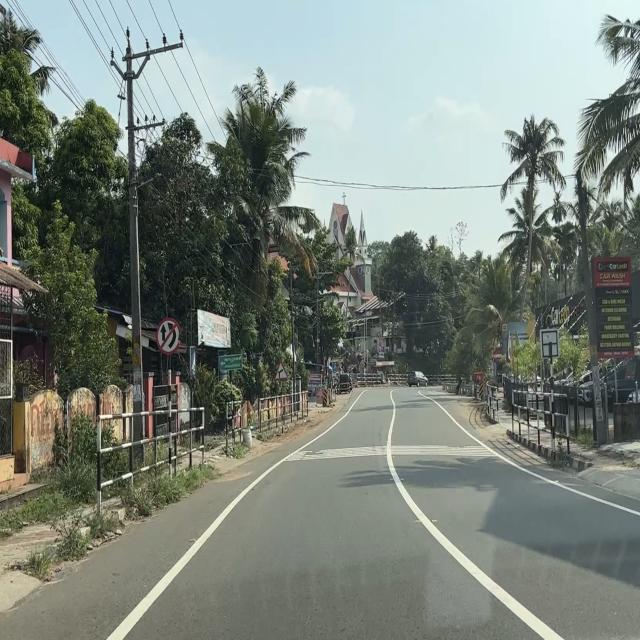GENERAL: (219, 354, 243, 372)
OVERTAKING_PROHIBITED: (156, 316, 181, 356)
RIGHT_TURN_AHEAD: (274, 360, 288, 381)
